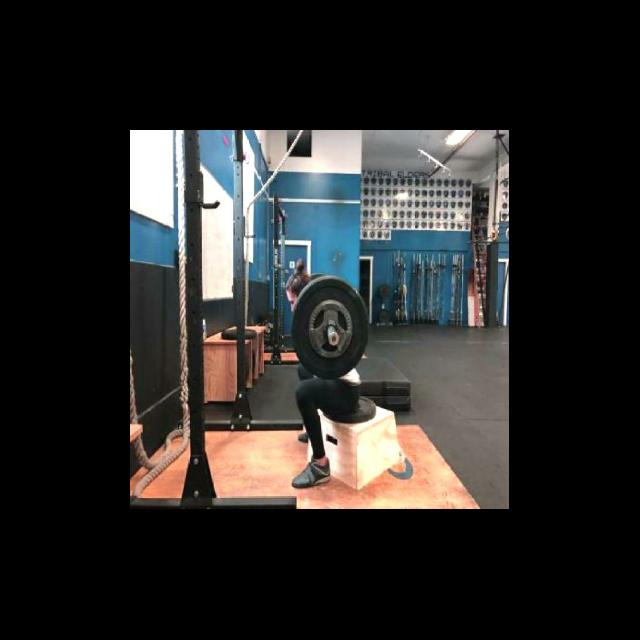barbell: (289, 273, 371, 382)
